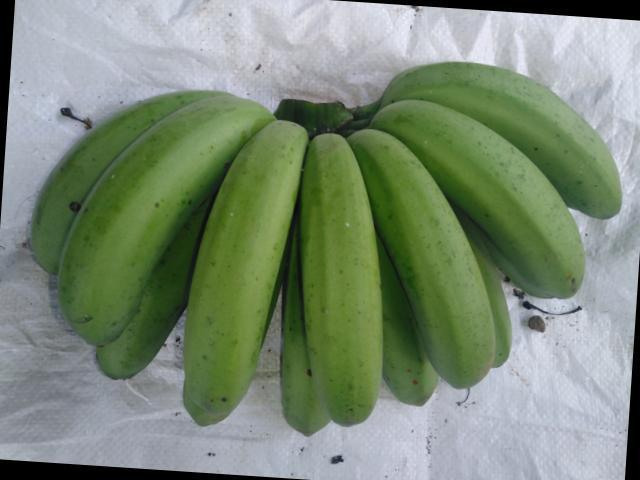unripe: (42, 83, 270, 342), (372, 90, 591, 320), (339, 122, 510, 401), (178, 124, 300, 431), (283, 127, 394, 446)
